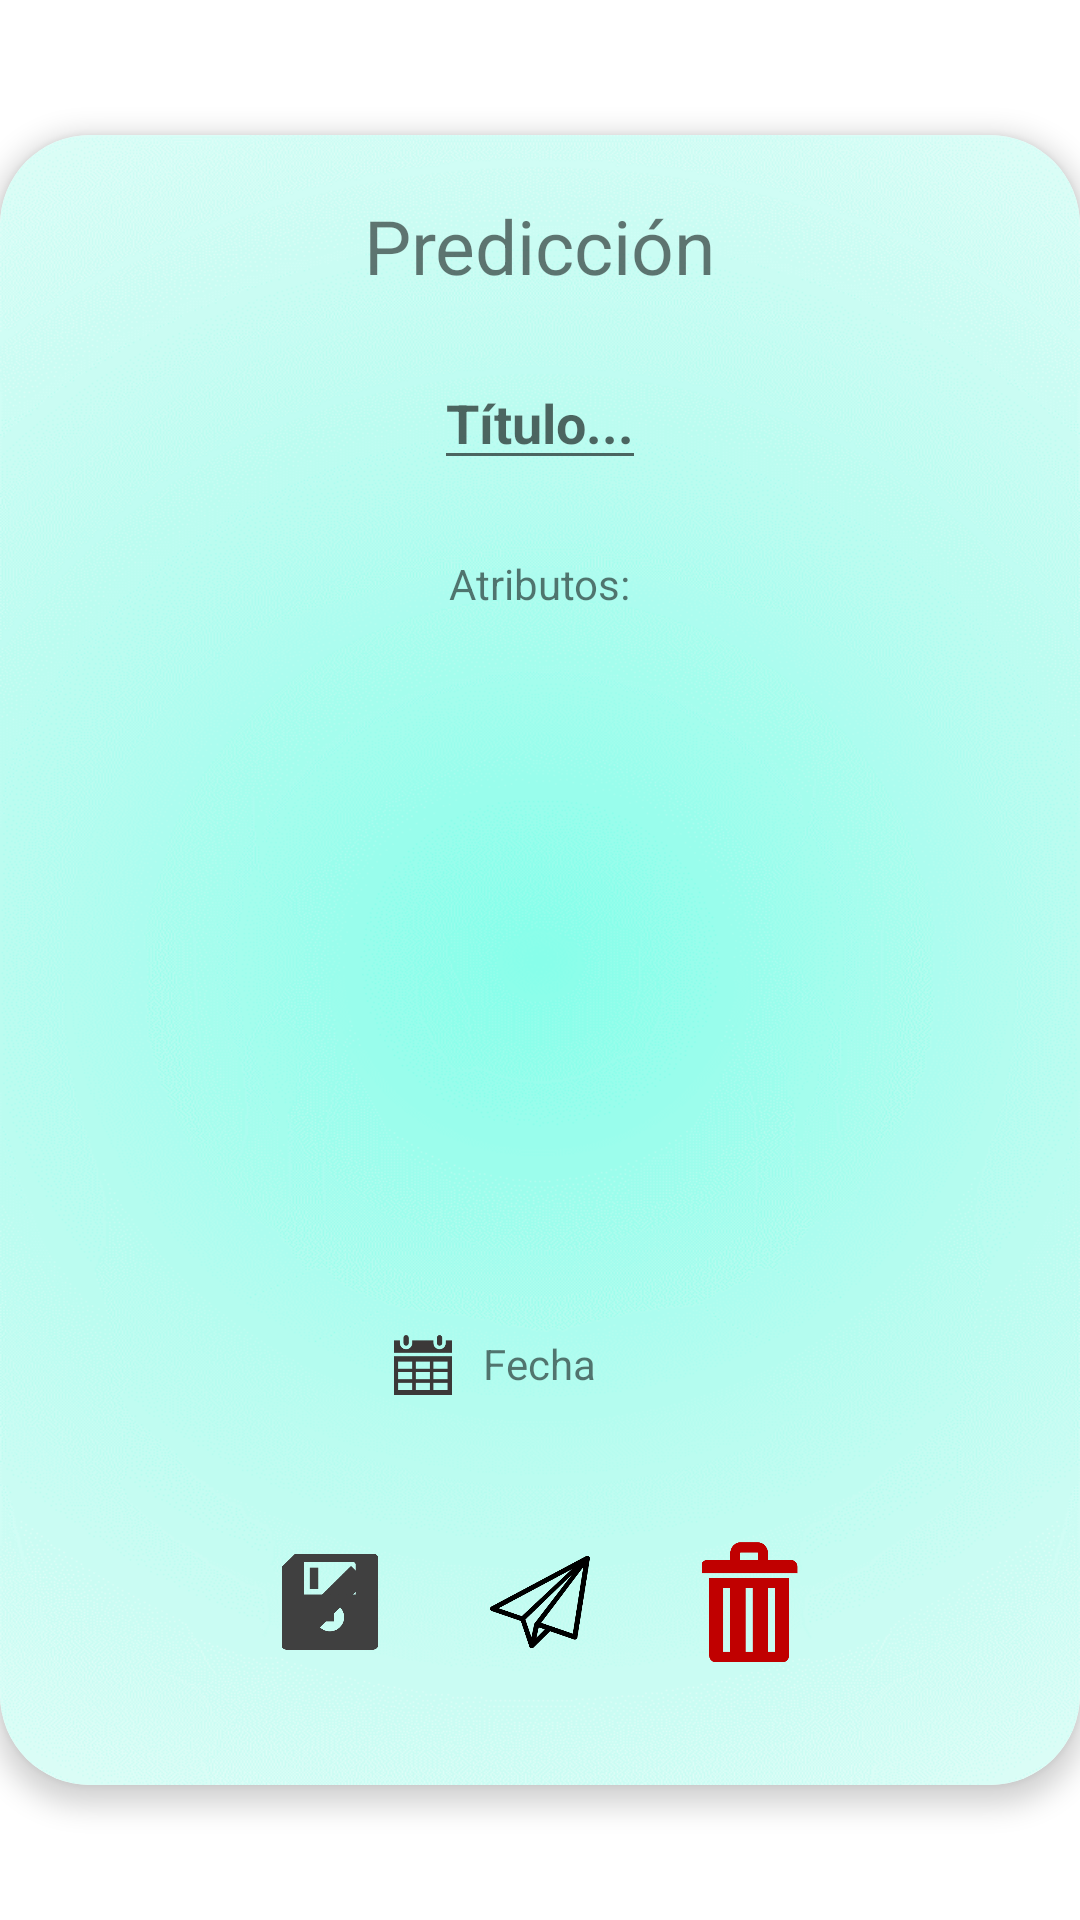

Locate icon controls on the screen. Image size 1080 × 1920, boxes as (x1, y1, x2, y2).
enviar: (490, 1556, 590, 1648)
